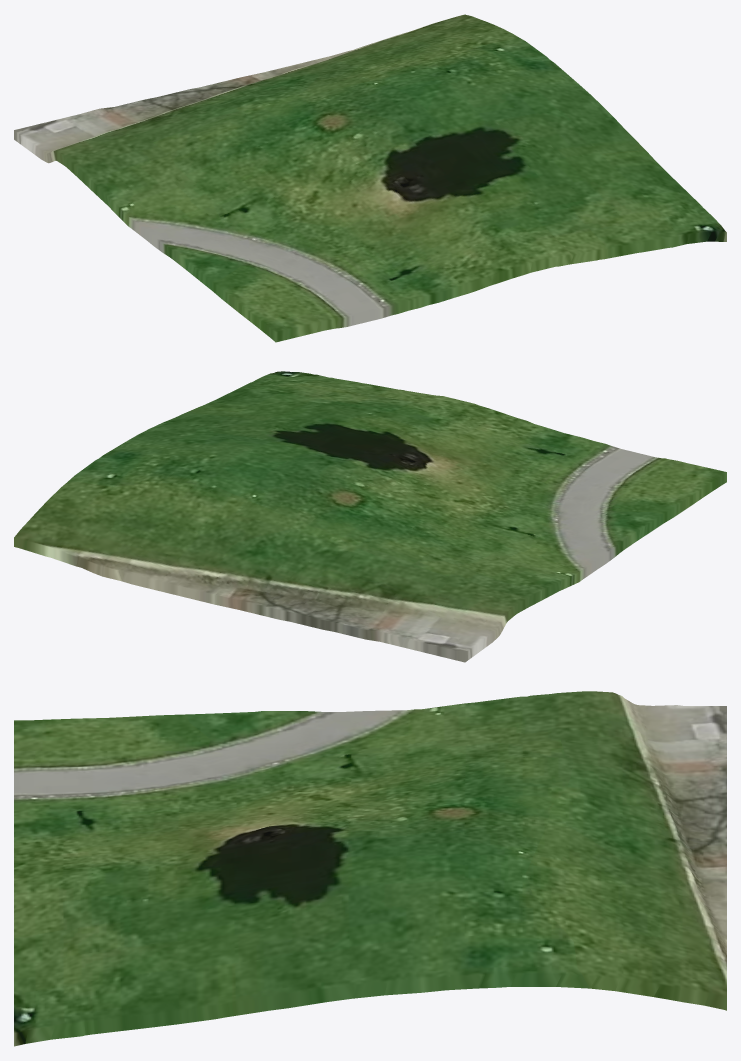
File: z20-167767-405194-h0-yup-uvflip-v3-world.glb
3 renders of one model, top to bottom at view 1: azimuth 30°, elevation 25°; view 2: azimuth 150°, elevation 25°; view 3: azimuth 270°, elevation 25°, orthographic. The views are drawn at different scales.
Size of the model in its own units: 30.16 by 4.24 by 30.32.
1 material, 1 textured.
